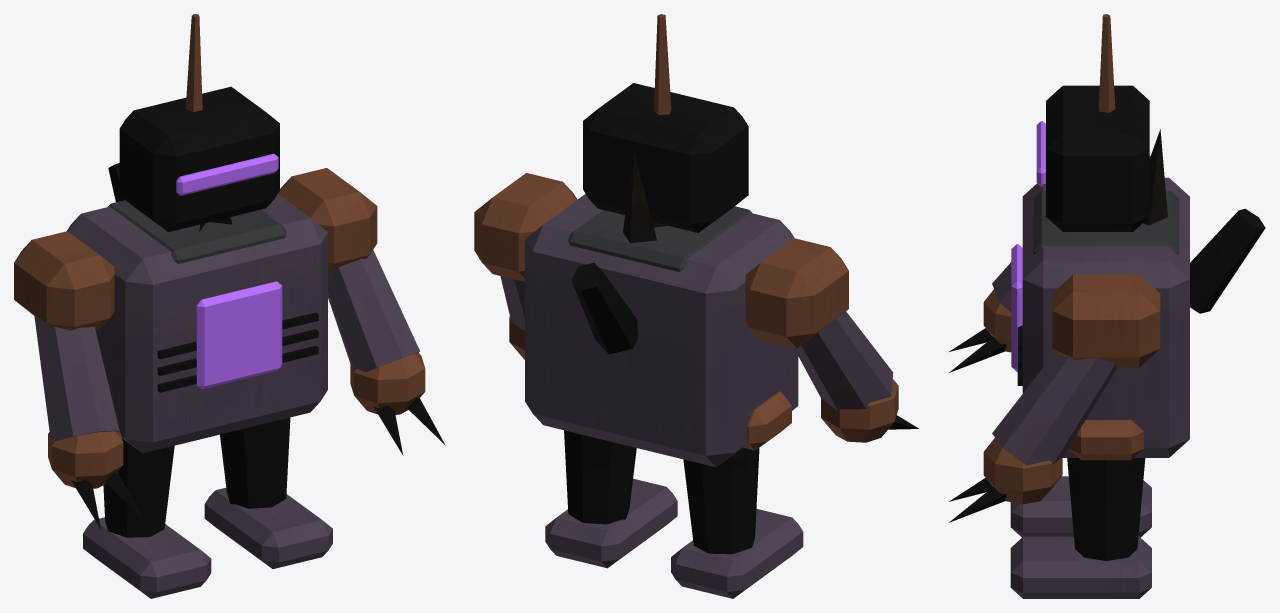
Rendered from boss_08.glb.
3 views of the same model, side by side, from view 1: azimuth 30°, elevation 25°; view 2: azimuth 150°, elevation 25°; view 3: azimuth 270°, elevation 25° (orthographic). The views are drawn at different scales.
Visible parts, largest first — view 1: boss_08; view 2: boss_08; view 3: boss_08.
Part boxes in pixels (x1=…): boss_08: x1=14, y1=14, x2=445, y2=598; boss_08: x1=474, y1=14, x2=918, y2=598; boss_08: x1=949, y1=14, x2=1265, y2=598.
Size of the model in its own units: 1.88 by 2.58 by 1.37.
6 materials, 5 textured.
